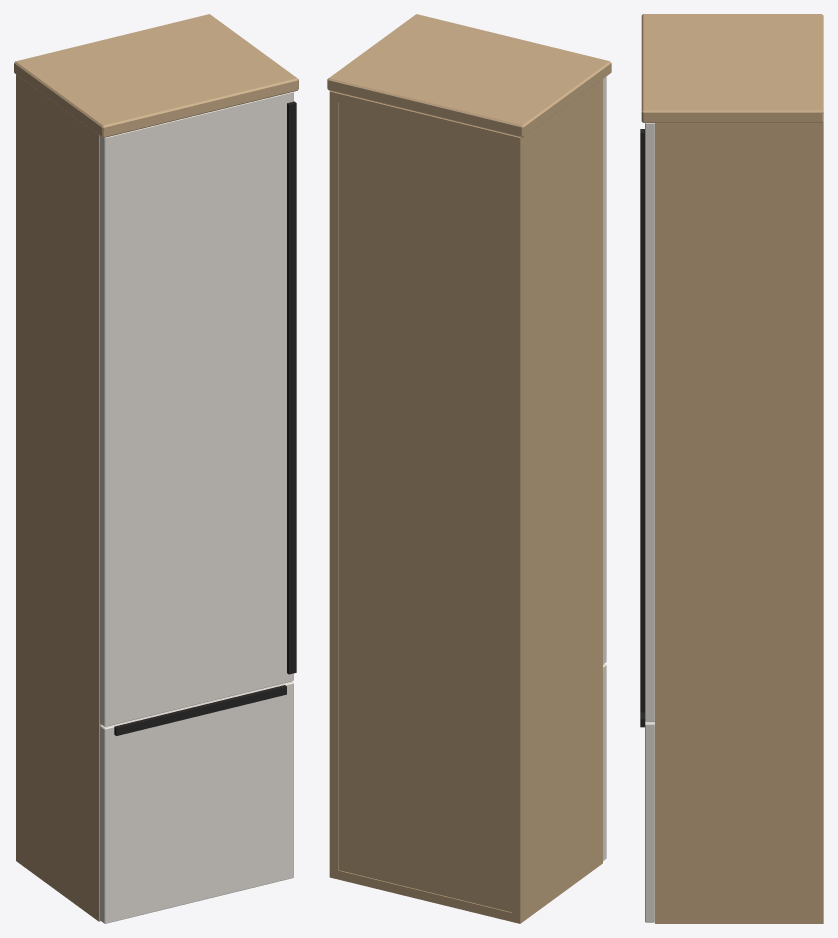
Rendered from 41_slupek_lazienkowy_40.glb.
3 views of the same model, side by side, from view 1: azimuth 30°, elevation 25°; view 2: azimuth 150°, elevation 25°; view 3: azimuth 270°, elevation 25° (orthographic).
Visible parts, largest first — view 1: Front_drzwi_1, Korpus, Front_szuflada_2, Wierzch, Uchwyty; view 2: Korpus, Wierzch, Front_drzwi_1, Front_szuflada_2; view 3: Korpus, Wierzch, Front_drzwi_1, Uchwyty, Front_szuflada_2.
Boxes of the visible parts, bbox=[...] form: Front_drzwi_1: bbox=[100, 91, 293, 726]; Korpus: bbox=[16, 74, 101, 921]; Front_szuflada_2: bbox=[100, 681, 293, 923]; Wierzch: bbox=[14, 14, 298, 137]; Uchwyty: bbox=[114, 101, 296, 735]; Korpus: bbox=[329, 79, 602, 923]; Wierzch: bbox=[327, 14, 611, 137]; Front_drzwi_1: bbox=[603, 76, 606, 664]; Front_szuflada_2: bbox=[603, 664, 606, 860]; Korpus: bbox=[655, 122, 823, 923]; Wierzch: bbox=[641, 14, 823, 122]; Front_drzwi_1: bbox=[645, 123, 654, 721]; Uchwyty: bbox=[640, 129, 644, 727]; Front_szuflada_2: bbox=[645, 722, 654, 922].
Size of the model in its own units: 0.412 by 1.6 by 0.326.
